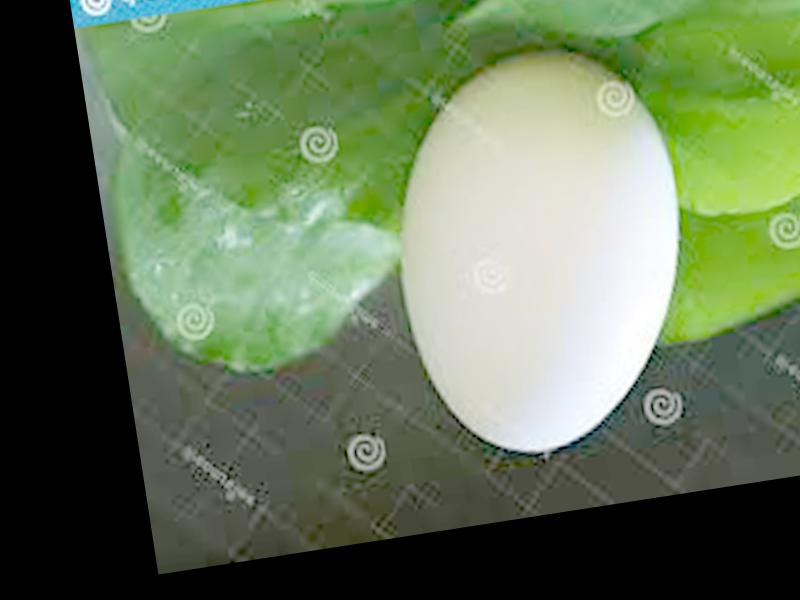Eggs: (370, 36, 712, 468)
